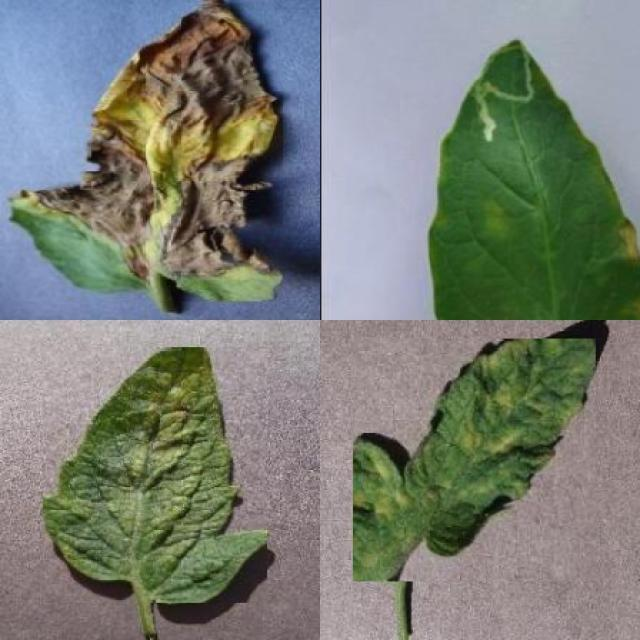Late Blight: (6, 0, 283, 301)
Leaf Miner: (425, 34, 640, 319)
Leaf Mold: (354, 338, 596, 582)
Spider Mites: (43, 347, 267, 603)
